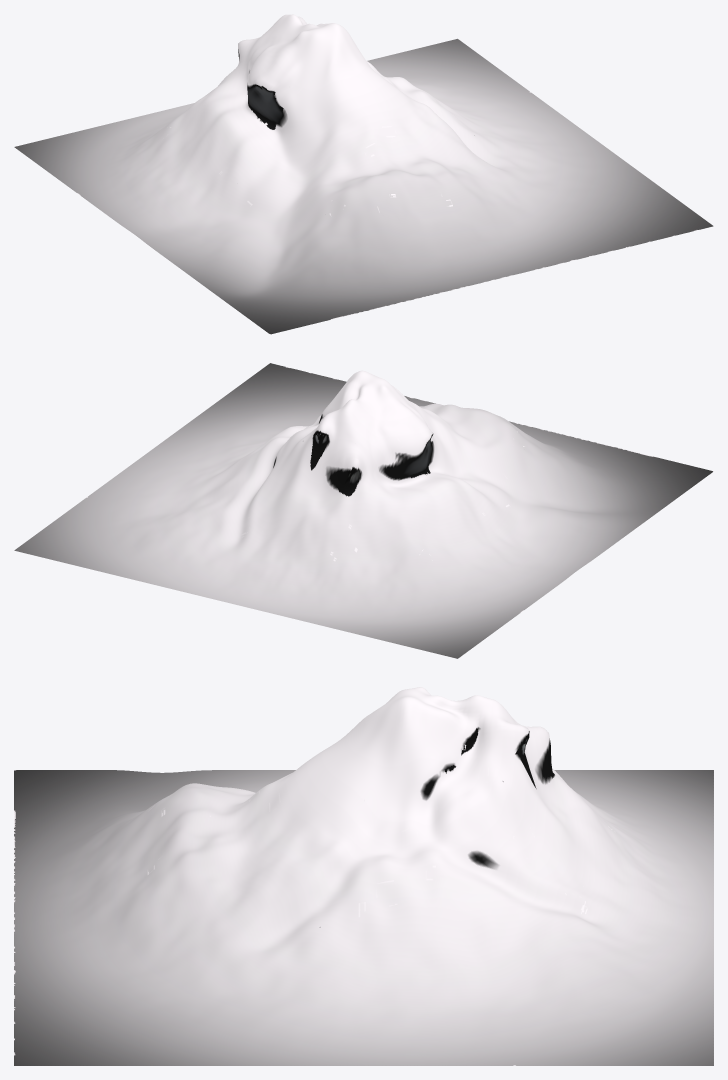
Rendered from mountainScene1.glb.
The picture shows the model from 3 angles, top to bottom: view 1: azimuth 30°, elevation 25°; view 2: azimuth 150°, elevation 25°; view 3: azimuth 270°, elevation 25°; orthographic projection. The views are drawn at different scales.
Parts seen in each view (by area): view 1: Landscape.003; view 2: Landscape.003; view 3: Landscape.003.
Boxes of the visible parts, x1,y1,x2,y2 form: Landscape.003: [14, 14, 713, 334]; Landscape.003: [14, 363, 713, 658]; Landscape.003: [14, 687, 713, 1065].
Bounding box in the file's own units: 2 × 0.6988 × 2.
1 material, 1 textured.
